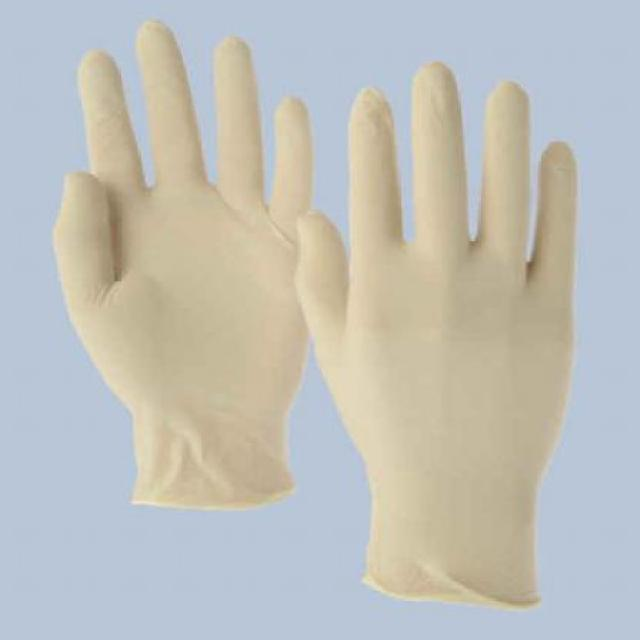glove_hand: (293, 73, 582, 609), (56, 24, 319, 500)
